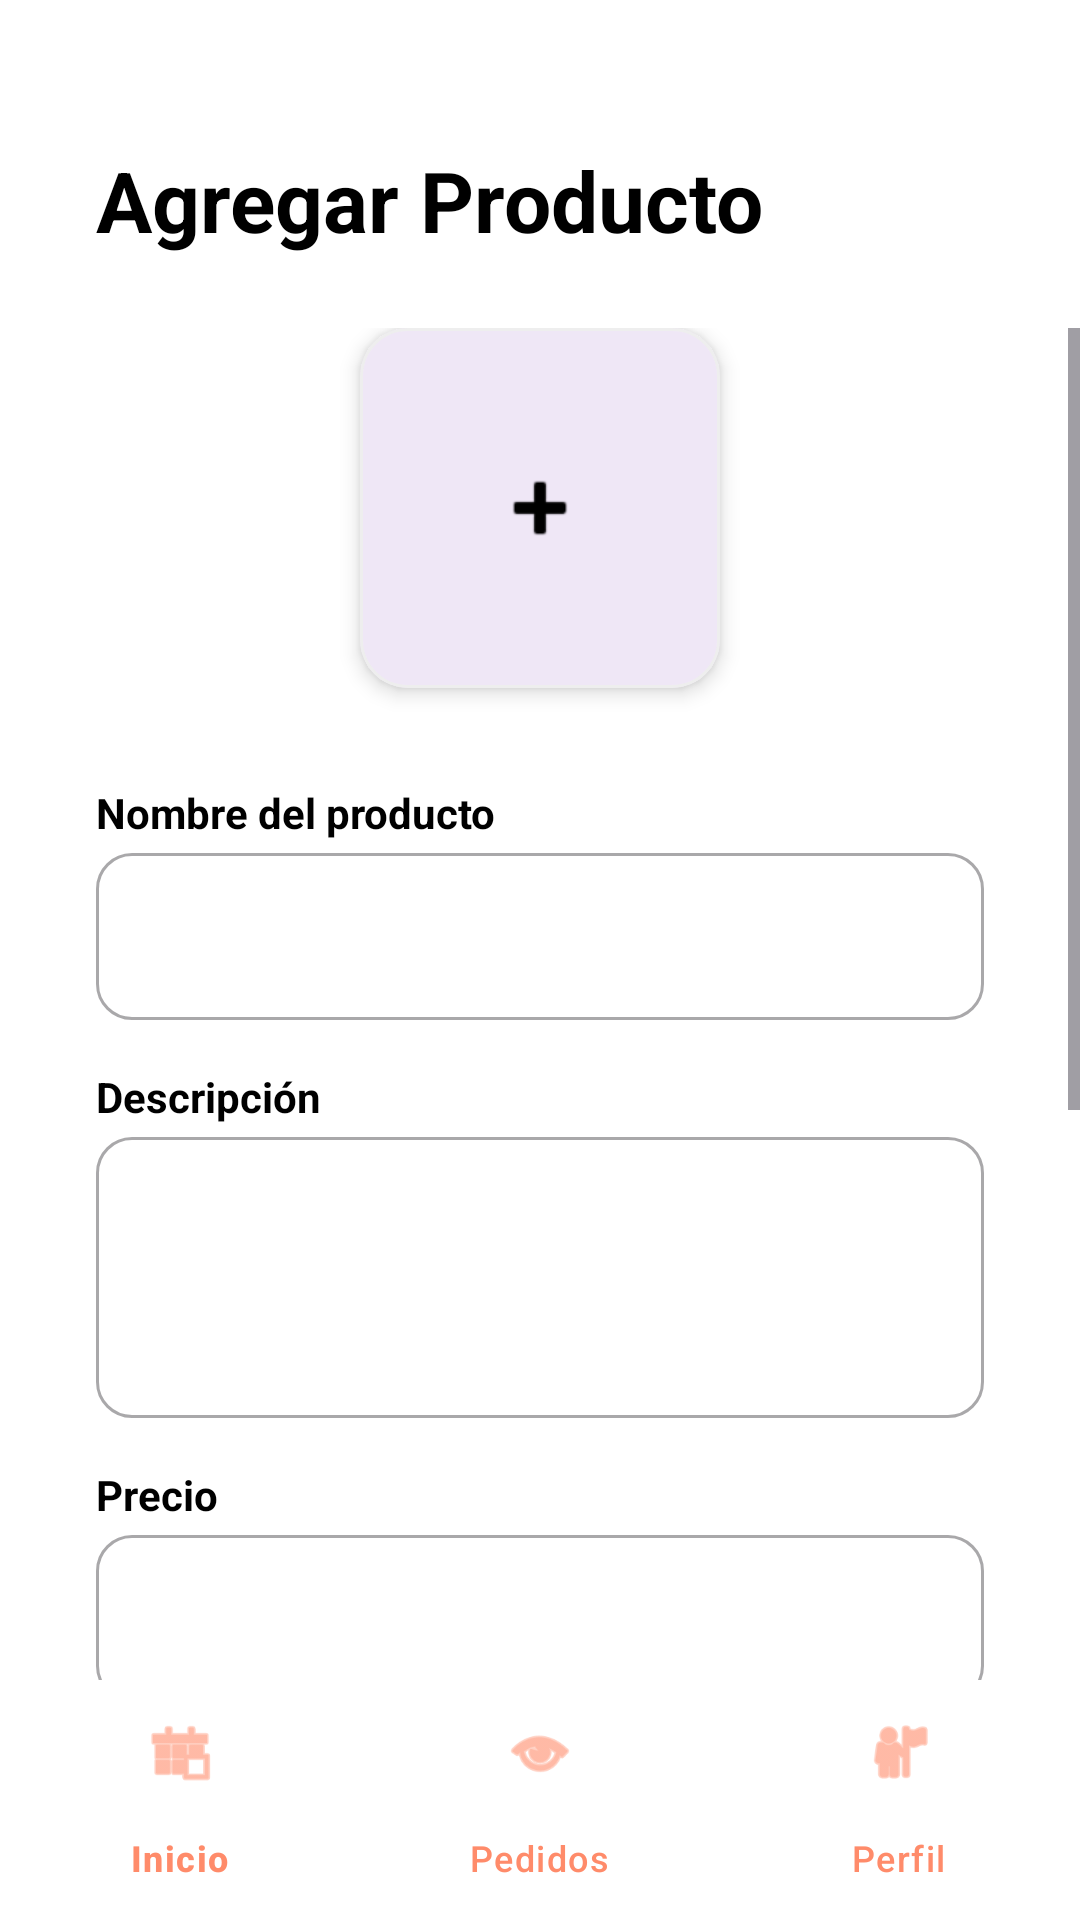

Point at icon controls on the screen. Image size 1080*1920, points as (x=x, y=y).
Elegir imagen: (x=540, y=508)
